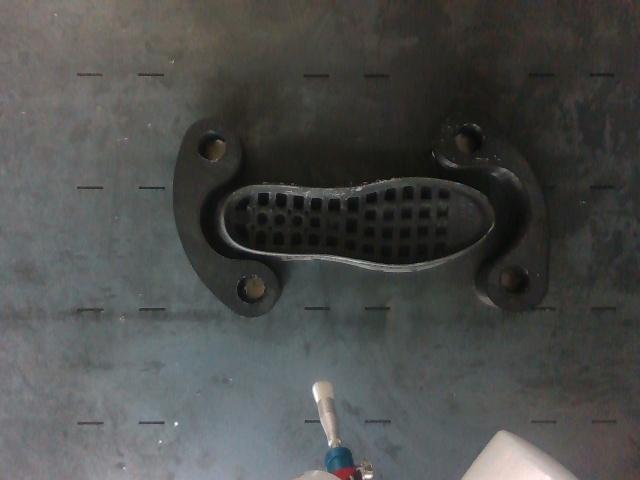shoes: (222, 180, 495, 265)
